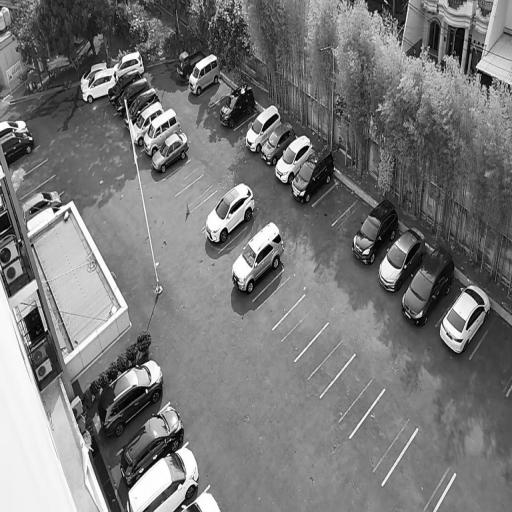Car: (93, 341, 177, 450), (117, 392, 191, 495), (123, 432, 207, 512), (396, 241, 463, 333), (224, 218, 291, 300), (433, 276, 496, 362), (199, 176, 263, 251), (372, 223, 433, 297), (346, 195, 405, 270), (287, 142, 339, 207), (271, 132, 318, 186), (240, 103, 285, 156), (148, 126, 193, 176), (215, 81, 260, 131), (141, 106, 183, 157), (257, 119, 299, 169), (128, 99, 166, 148), (112, 76, 152, 120), (185, 52, 224, 97), (122, 87, 161, 131), (106, 68, 143, 108), (81, 67, 119, 105), (0, 131, 40, 166), (177, 484, 226, 512), (22, 191, 64, 222), (174, 45, 207, 82), (26, 205, 67, 233), (113, 51, 145, 78), (80, 62, 107, 90), (0, 118, 30, 137)
Space Available: (350, 389, 418, 483), (382, 430, 456, 511), (320, 354, 384, 438), (294, 323, 356, 398), (273, 293, 329, 362), (470, 313, 512, 396), (253, 270, 305, 329), (312, 181, 357, 226), (332, 200, 370, 243), (163, 158, 204, 197), (14, 160, 55, 198), (9, 145, 47, 181), (20, 174, 62, 205), (182, 174, 217, 211), (219, 226, 253, 263), (190, 189, 222, 221), (199, 79, 232, 106), (234, 111, 260, 136), (209, 89, 234, 111)
